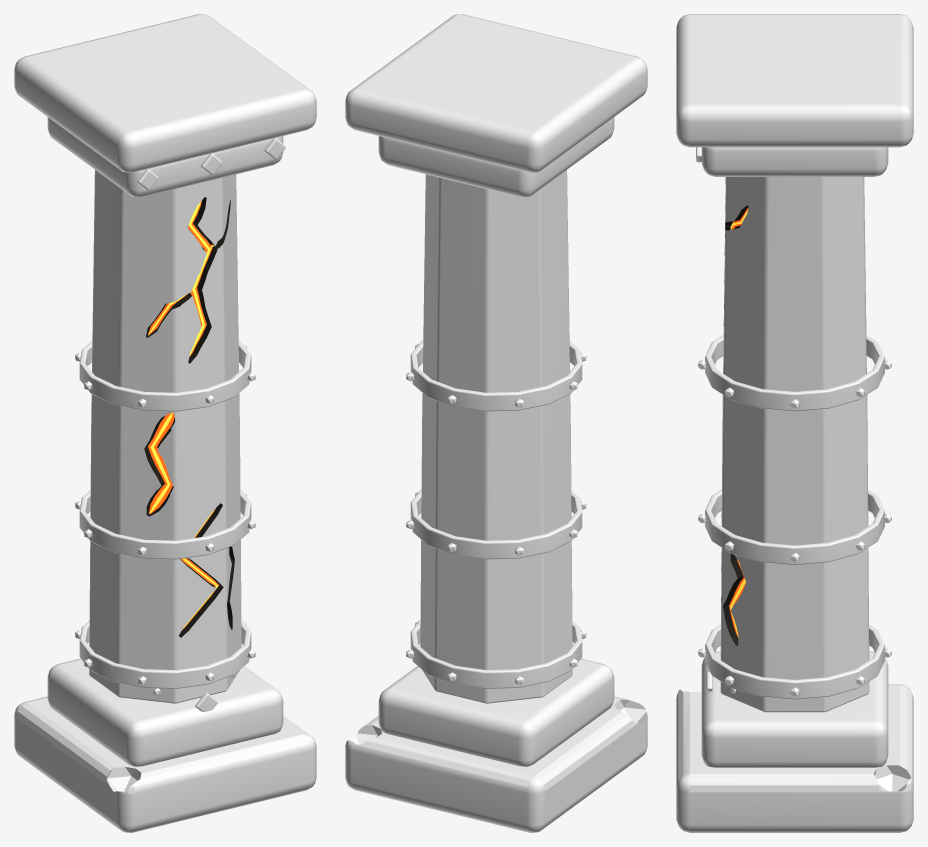
The model's file is AS_11_Pillar_Obsidian.glb.
The picture shows the model from 3 angles, left to right: view 1: azimuth 30°, elevation 25°; view 2: azimuth 150°, elevation 25°; view 3: azimuth 270°, elevation 25°; orthographic projection. The views are drawn at different scales.
Parts seen in each view (by area): view 1: AS_11_Pillar_Obsidian__surface-carved pillar shaft, AS_11_Pillar_Obsidian__cap, AS_11_Pillar_Obsidian__foot, AS_11_Pillar_Obsidian__base, AS_11_Pillar_Obsidian__capital, AS_11_Pillar_Obsidian__continuous bronze collar, AS_11_Pillar_Obsidian__continuous bronze collar.002, AS_11_Pillar_Obsidian__continuous bronze collar.001, AS_11_Pillar_Obsidian__projected molten fracture.002; view 2: AS_11_Pillar_Obsidian__surface-carved pillar shaft, AS_11_Pillar_Obsidian__cap, AS_11_Pillar_Obsidian__foot, AS_11_Pillar_Obsidian__base, AS_11_Pillar_Obsidian__capital, AS_11_Pillar_Obsidian__continuous bronze collar, AS_11_Pillar_Obsidian__continuous bronze collar.002, AS_11_Pillar_Obsidian__continuous bronze collar.001; view 3: AS_11_Pillar_Obsidian__surface-carved pillar shaft, AS_11_Pillar_Obsidian__cap, AS_11_Pillar_Obsidian__foot, AS_11_Pillar_Obsidian__base, AS_11_Pillar_Obsidian__capital, AS_11_Pillar_Obsidian__continuous bronze collar, AS_11_Pillar_Obsidian__continuous bronze collar.002, AS_11_Pillar_Obsidian__continuous bronze collar.001.
Boxes of the visible parts, <box> form: AS_11_Pillar_Obsidian__surface-carved pillar shaft: <box>89,170,241,703</box>; AS_11_Pillar_Obsidian__cap: <box>14,14,316,172</box>; AS_11_Pillar_Obsidian__foot: <box>14,696,316,832</box>; AS_11_Pillar_Obsidian__base: <box>47,658,283,766</box>; AS_11_Pillar_Obsidian__capital: <box>47,117,283,197</box>; AS_11_Pillar_Obsidian__continuous bronze collar: <box>79,340,251,411</box>; AS_11_Pillar_Obsidian__continuous bronze collar.002: <box>79,489,251,559</box>; AS_11_Pillar_Obsidian__continuous bronze collar.001: <box>79,620,251,688</box>; AS_11_Pillar_Obsidian__projected molten fracture.002: <box>148,412,174,513</box>; AS_11_Pillar_Obsidian__surface-carved pillar shaft: <box>420,170,572,703</box>; AS_11_Pillar_Obsidian__cap: <box>345,14,647,172</box>; AS_11_Pillar_Obsidian__foot: <box>345,696,647,832</box>; AS_11_Pillar_Obsidian__base: <box>378,658,614,766</box>; AS_11_Pillar_Obsidian__capital: <box>378,117,614,197</box>; AS_11_Pillar_Obsidian__continuous bronze collar: <box>410,340,582,411</box>; AS_11_Pillar_Obsidian__continuous bronze collar.002: <box>410,489,582,559</box>; AS_11_Pillar_Obsidian__continuous bronze collar.001: <box>410,620,582,688</box>; AS_11_Pillar_Obsidian__surface-carved pillar shaft: <box>720,177,869,712</box>; AS_11_Pillar_Obsidian__cap: <box>676,14,913,147</box>; AS_11_Pillar_Obsidian__foot: <box>676,684,913,832</box>; AS_11_Pillar_Obsidian__base: <box>701,651,888,767</box>; AS_11_Pillar_Obsidian__capital: <box>701,147,888,176</box>; AS_11_Pillar_Obsidian__continuous bronze collar: <box>705,335,884,411</box>; AS_11_Pillar_Obsidian__continuous bronze collar.002: <box>705,489,884,564</box>; AS_11_Pillar_Obsidian__continuous bronze collar.001: <box>705,624,884,699</box>.
Bounding box in the file's own units: 1.12 × 3.79 × 1.12.
